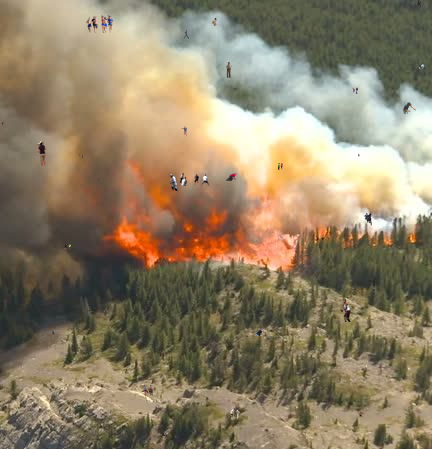Human: (86, 15, 114, 33), (179, 173, 210, 186), (340, 299, 351, 322), (37, 141, 46, 166), (403, 102, 416, 114), (169, 174, 178, 191), (226, 62, 235, 78), (230, 408, 240, 420), (143, 385, 153, 397), (364, 213, 372, 226), (373, 278, 384, 287), (226, 173, 237, 181), (256, 328, 266, 336), (181, 126, 189, 136), (348, 87, 358, 94), (64, 243, 72, 250), (184, 30, 189, 39), (212, 18, 217, 26), (417, 0, 422, 8), (419, 63, 425, 69), (359, 411, 365, 417), (278, 163, 283, 170), (317, 235, 324, 240), (163, 432, 167, 437), (0, 121, 4, 126), (231, 369, 234, 375), (79, 154, 83, 158), (52, 330, 55, 335), (373, 288, 375, 295), (358, 153, 360, 160), (234, 358, 237, 362), (168, 8, 170, 13), (149, 437, 151, 442), (96, 178, 99, 181)
